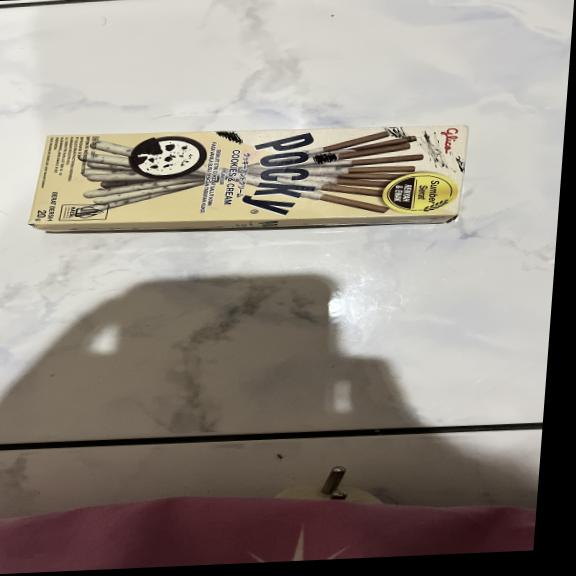Kertas: (24, 116, 467, 236)
